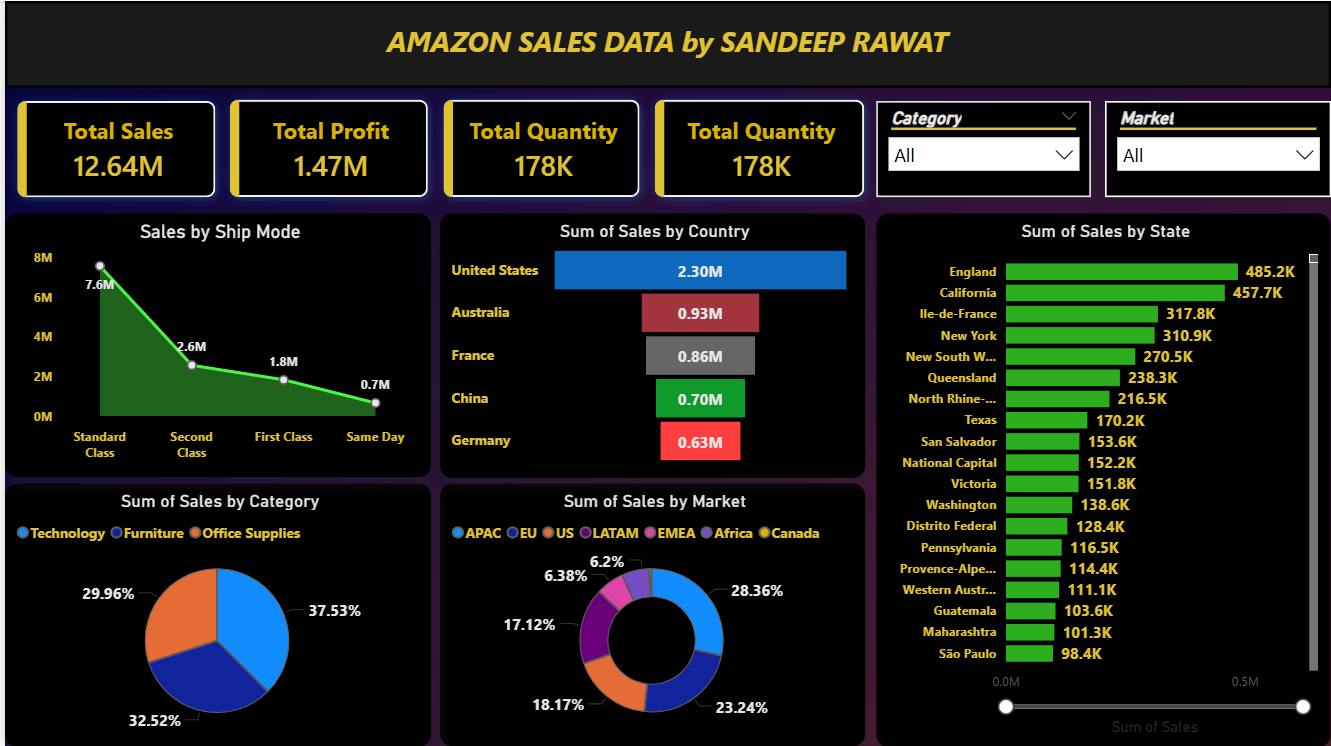

What the dashboard file says about the page in this screenshot:
{"tool":"powerbi","page":{"name":"Page 1","canvas":[1280,720],"ordinal":0},"visuals":[{"type":"donutChart","fields":{"Category":["Orders.Market"],"Y":["Sum(Orders.Sales)"]},"box":[420,466.2,410,253.8],"z":0},{"type":"pieChart","fields":{"Category":["Orders.Category"],"Y":["Sum(Orders.Sales)"]},"box":[0,465.9,410.9,254.3],"z":1000},{"type":"lineChart","title":"Sales by Ship Mode","fields":{"Category":["Orders.Ship Mode"],"Y":["Sum(Orders.Sales)"]},"box":[0,205.4,410.9,254.3],"z":2000},{"type":"clusteredBarChart","fields":{"Category":["Orders.State"],"Y":["Sum(Orders.Sales)"]},"box":[841.2,205,438.8,515],"z":3000},{"type":"funnel","fields":{"Category":["Orders.Country"],"Y":["Sum(Orders.Sales)"]},"box":[420,205,410,255],"z":4000},{"type":"textbox","box":[0,0,1280,83.8],"z":5000},{"type":"cardVisual","title":"Total Quantity","fields":{"Data":["Sum(Orders.Sales)"]},"box":[0,85,215,117.5],"z":6000},{"type":"slicer","fields":{"Values":["Orders.Category"]},"box":[841.2,96.2,207.5,92.5],"z":7000},{"type":"slicer","fields":{"Values":["Orders.Market"]},"box":[1061.2,96.2,218.8,92.5],"z":8000},{"type":"cardVisual","title":"Total Quantity","fields":{"Data":["Sum(Orders.Profit)"]},"box":[205,83.8,215,118.8],"z":9000},{"type":"cardVisual","title":"Total Quantity","fields":{"Data":["Sum(Orders.Quantity)"]},"box":[615,83.8,226.2,118.8],"z":10000},{"type":"cardVisual","title":"Total Quantity","fields":{"Data":["Sum(Orders.Quantity)"]},"box":[411.2,83.8,213.8,118.8],"z":11000}]}

Visuals, with their boxes in screenshot pixels (x1, y1, x2, y2), scaled from the page's 1280x720 canvas onto the 1331x746 screenshot:
donutChart - Orders.Market x Sum(Orders.Sales): locate(437, 483, 863, 745)
pieChart - Orders.Category x Sum(Orders.Sales): locate(0, 483, 427, 745)
"Sales by Ship Mode" lineChart: locate(0, 213, 427, 476)
clusteredBarChart - Orders.State x Sum(Orders.Sales): locate(875, 212, 1330, 745)
funnel - Orders.Country x Sum(Orders.Sales): locate(437, 212, 863, 477)
textbox: locate(0, 0, 1330, 87)
"Total Quantity" cardVisual: locate(0, 88, 224, 210)
slicer - Orders.Category: locate(875, 100, 1090, 196)
slicer - Orders.Market: locate(1103, 100, 1330, 196)
"Total Quantity" cardVisual: locate(213, 87, 437, 210)
"Total Quantity" cardVisual: locate(640, 87, 875, 210)
"Total Quantity" cardVisual: locate(428, 87, 650, 210)
